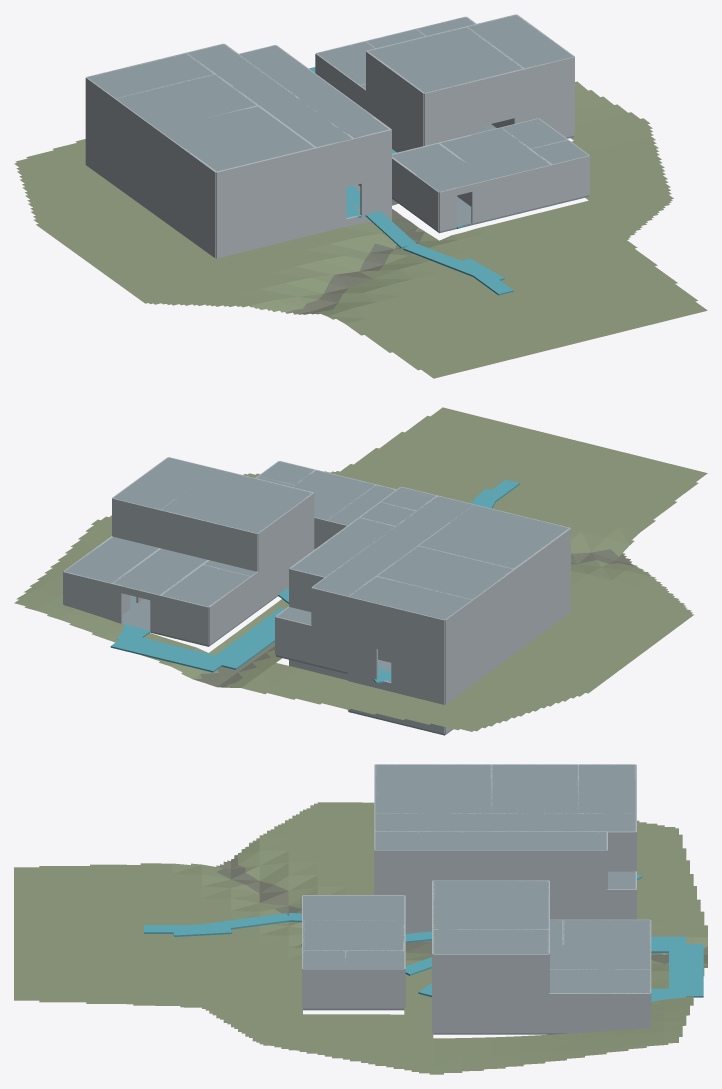
The model's file is terrain-assembly.glb.
3 renders of one model, top to bottom at view 1: azimuth 30°, elevation 25°; view 2: azimuth 150°, elevation 25°; view 3: azimuth 270°, elevation 25°, orthographic. The views are drawn at different scales.
Visible parts, largest first — view 1: Saved editor macroterrain FARMHOUSE, Ceiling cap hayloft, Ceiling cap parents, Ceiling cap upper-hall, Ceiling cap children, Wall parents S, Wall hayloft S, Wall parlour S, Ceiling cap repair, Ceiling cap linen, Ceiling cap loft-landing, Ceiling cap upper-stair (+33 smaller); view 2: Saved editor macroterrain FARMHOUSE, Ceiling cap hayloft, Ceiling cap parents, Ceiling cap upper-hall, Ceiling cap children, Wall hayloft N, Wall linen N, Wall cleaner N, Ceiling cap loft-landing, Ceiling cap linen, Ceiling cap upper-stair, Wall hayloft W (+31 smaller); view 3: Saved editor macroterrain FARMHOUSE, Ceiling cap hayloft, Ceiling cap parents, Wall upper-stair E, Ceiling cap upper-hall, Wall loft-stair E, Wall loft-landing E, Ceiling cap children, Wall equipment E, Ceiling cap repair, Ceiling cap linen, Ceiling cap loft-landing (+22 smaller).
Part boxes in pixels (x1=…): Saved editor macroterrain FARMHOUSE: x1=14, y1=81, x2=707, y2=378; Ceiling cap hayloft: x1=367, y1=27, x2=522, y2=92; Ceiling cap parents: x1=159, y1=106, x2=313, y2=171; Ceiling cap upper-hall: x1=187, y1=44, x2=351, y2=146; Ceiling cap children: x1=116, y1=74, x2=256, y2=129; Wall parents S: x1=216, y1=147, x2=316, y2=211; Wall hayloft S: x1=424, y1=68, x2=524, y2=132; Wall parlour S: x1=216, y1=187, x2=316, y2=250; Ceiling cap repair: x1=440, y1=128, x2=549, y2=179; Ceiling cap linen: x1=87, y1=53, x2=213, y2=98; Ceiling cap loft-landing: x1=467, y1=15, x2=573, y2=68; Ceiling cap upper-stair: x1=239, y1=45, x2=346, y2=106; Saved editor macroterrain FARMHOUSE: x1=14, y1=407, x2=707, y2=731; Ceiling cap hayloft: x1=161, y1=469, x2=312, y2=533; Ceiling cap parents: x1=419, y1=505, x2=569, y2=568; Ceiling cap upper-hall: x1=313, y1=496, x2=473, y2=596; Ceiling cap children: x1=377, y1=546, x2=513, y2=599; Wall hayloft N: x1=160, y1=510, x2=257, y2=571; Wall linen N: x1=347, y1=596, x2=444, y2=657; Wall cleaner N: x1=275, y1=616, x2=347, y2=672; Ceiling cap loft-landing: x1=113, y1=457, x2=216, y2=509; Ceiling cap linen: x1=349, y1=576, x2=471, y2=619; Ceiling cap upper-stair: x1=290, y1=517, x2=395, y2=576; Wall hayloft W: x1=257, y1=493, x2=314, y2=571; Saved editor macroterrain FARMHOUSE: x1=14, y1=802, x2=707, y2=1074; Ceiling cap hayloft: x1=433, y1=880, x2=548, y2=929; Ceiling cap parents: x1=375, y1=764, x2=490, y2=813; Wall upper-stair E: x1=462, y1=850, x2=606, y2=889; Ceiling cap upper-hall: x1=375, y1=813, x2=635, y2=831; Wall loft-stair E: x1=433, y1=994, x2=548, y2=1033; Wall loft-landing E: x1=433, y1=954, x2=548, y2=993; Ceiling cap children: x1=491, y1=764, x2=577, y2=813; Wall equipment E: x1=549, y1=993, x2=650, y2=1033; Ceiling cap repair: x1=303, y1=920, x2=404, y2=950; Ceiling cap linen: x1=578, y1=764, x2=635, y2=813; Ceiling cap loft-landing: x1=433, y1=929, x2=548, y2=953.
Size of the model in its own units: 45 by 9.16 by 48.
